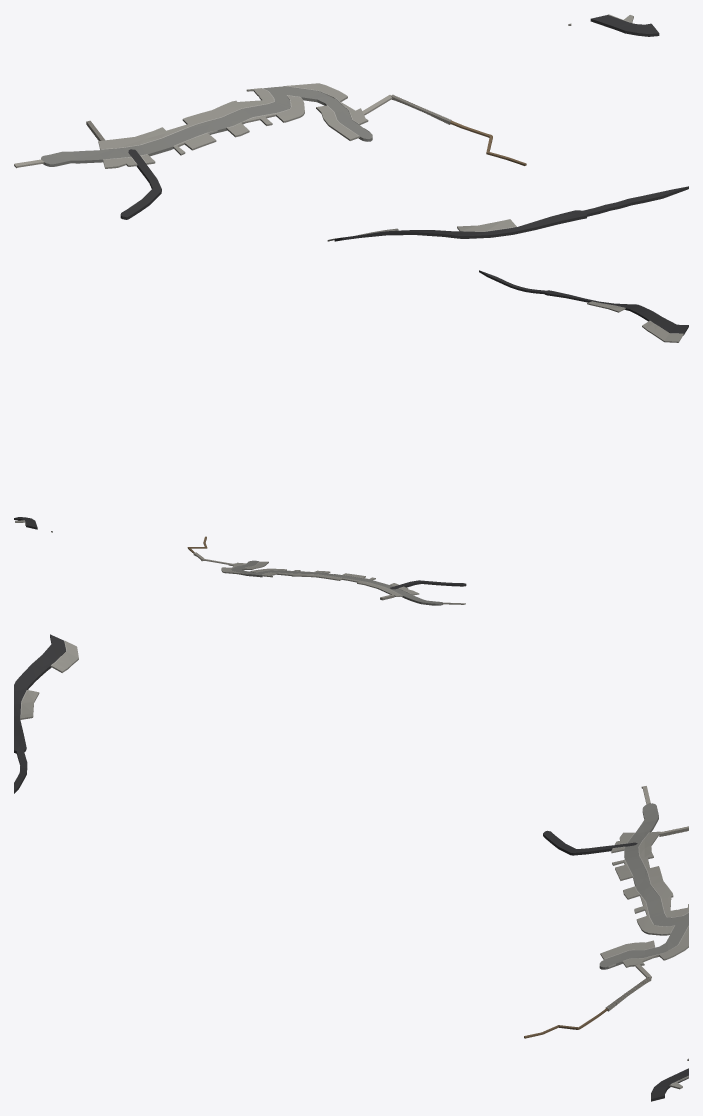
The picture shows the model from 3 angles, top to bottom: view 1: azimuth 30°, elevation 25°; view 2: azimuth 150°, elevation 25°; view 3: azimuth 270°, elevation 25°; orthographic projection. The views are drawn at different scales.
Bounding box in the file's own units: 293 × 98.67 × 292.
